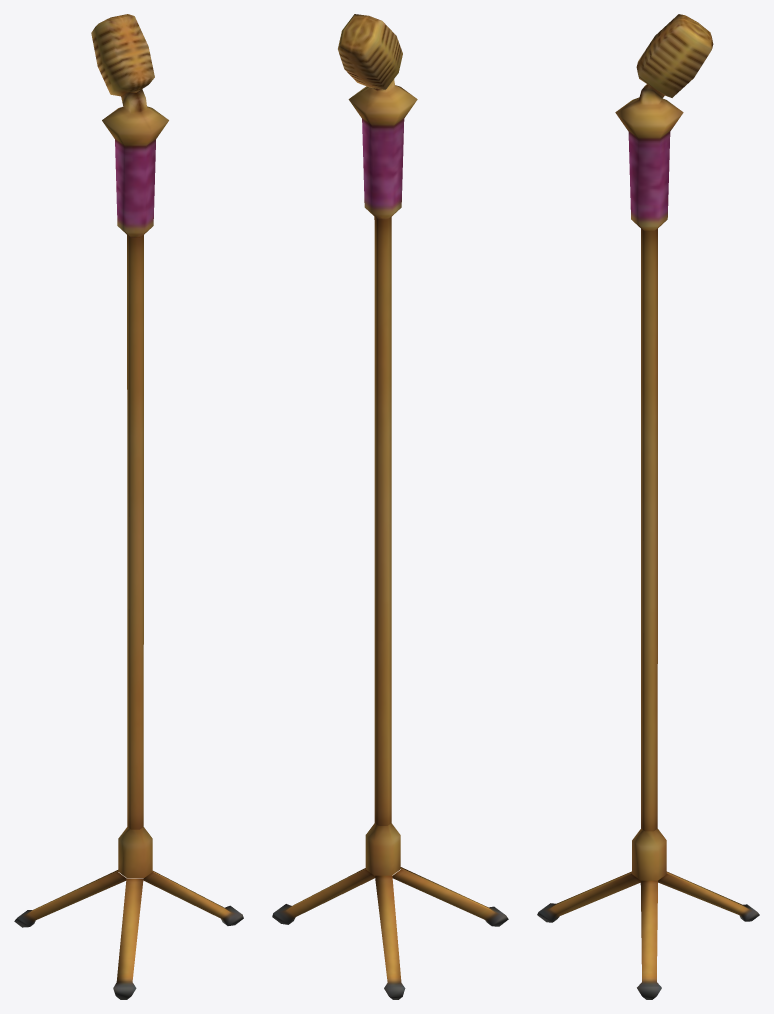
Rendered from starMicrophone.glb.
3 views of the same model, side by side, from view 1: azimuth 30°, elevation 25°; view 2: azimuth 150°, elevation 25°; view 3: azimuth 270°, elevation 25° (orthographic). The views are drawn at different scales.
Visible parts, largest first — view 1: starMicrophone; view 2: starMicrophone; view 3: starMicrophone.
Part boxes in pixels (bbox=[...]): starMicrophone: bbox=[14, 14, 243, 999]; starMicrophone: bbox=[272, 14, 508, 999]; starMicrophone: bbox=[537, 14, 759, 999].
Size of the model in its own units: 0.2255 by 1.13 by 0.2442.
1 material, 1 textured.
